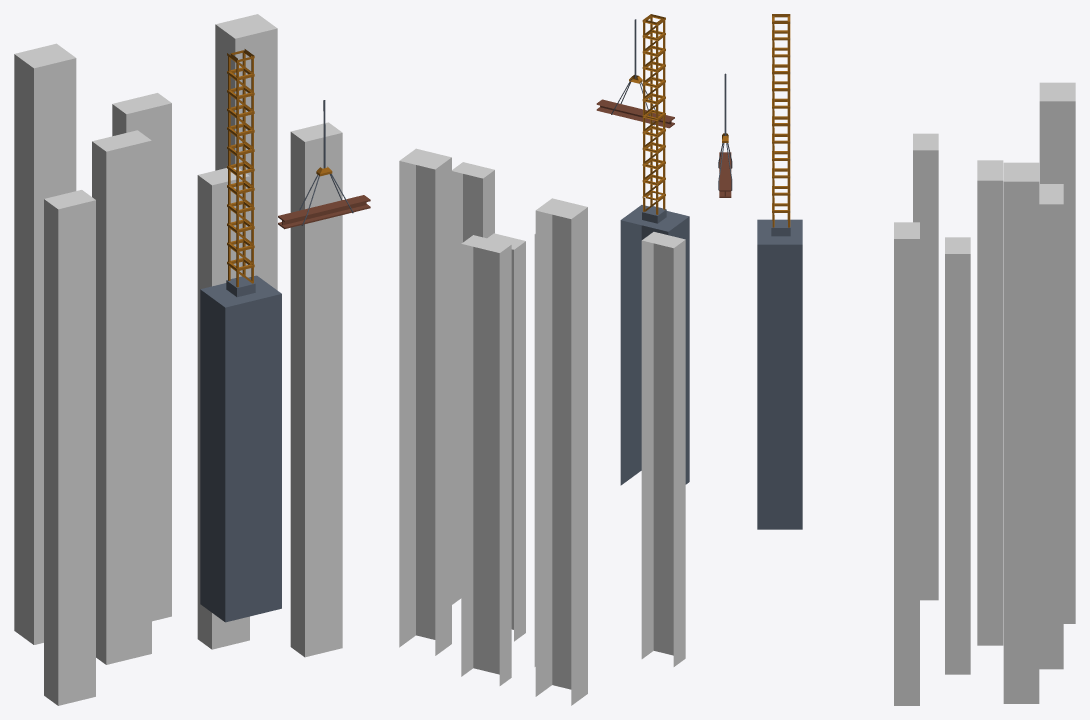
The model's file is construction crane.fbx.
The picture shows the model from 3 angles, left to right: view 1: azimuth 30°, elevation 25°; view 2: azimuth 150°, elevation 25°; view 3: azimuth 270°, elevation 25°; orthographic projection. The views are drawn at different scales.
Visible parts, largest first — view 1: задник, кран, балка; view 2: задник, кран, балка; view 3: задник, кран, балка.
Part boxes in pixels (left/top/right/bottom): задник: left=14, top=14, right=342, bottom=705; кран: left=200, top=49, right=281, bottom=622; балка: left=278, top=100, right=370, bottom=229; задник: left=399, top=148, right=685, bottom=705; кран: left=620, top=14, right=689, bottom=485; балка: left=596, top=19, right=674, bottom=128; задник: left=894, top=82, right=1075, bottom=705; кран: left=757, top=14, right=802, bottom=529; балка: left=718, top=73, right=732, bottom=197.
Bounding box in the file's own units: 49.94 × 119 × 62.16.
